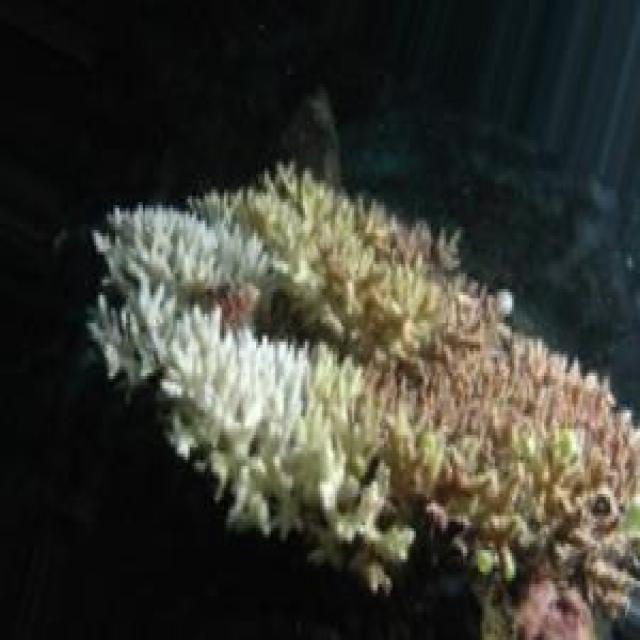bleached coral: (166, 363, 307, 450), (134, 217, 288, 286), (102, 211, 213, 295), (113, 292, 188, 388), (305, 444, 361, 541)
healthy coral: (486, 351, 631, 466), (350, 255, 463, 336), (395, 357, 491, 423), (471, 441, 546, 525), (518, 562, 582, 640), (563, 488, 623, 553), (273, 214, 339, 270), (314, 317, 367, 370)
